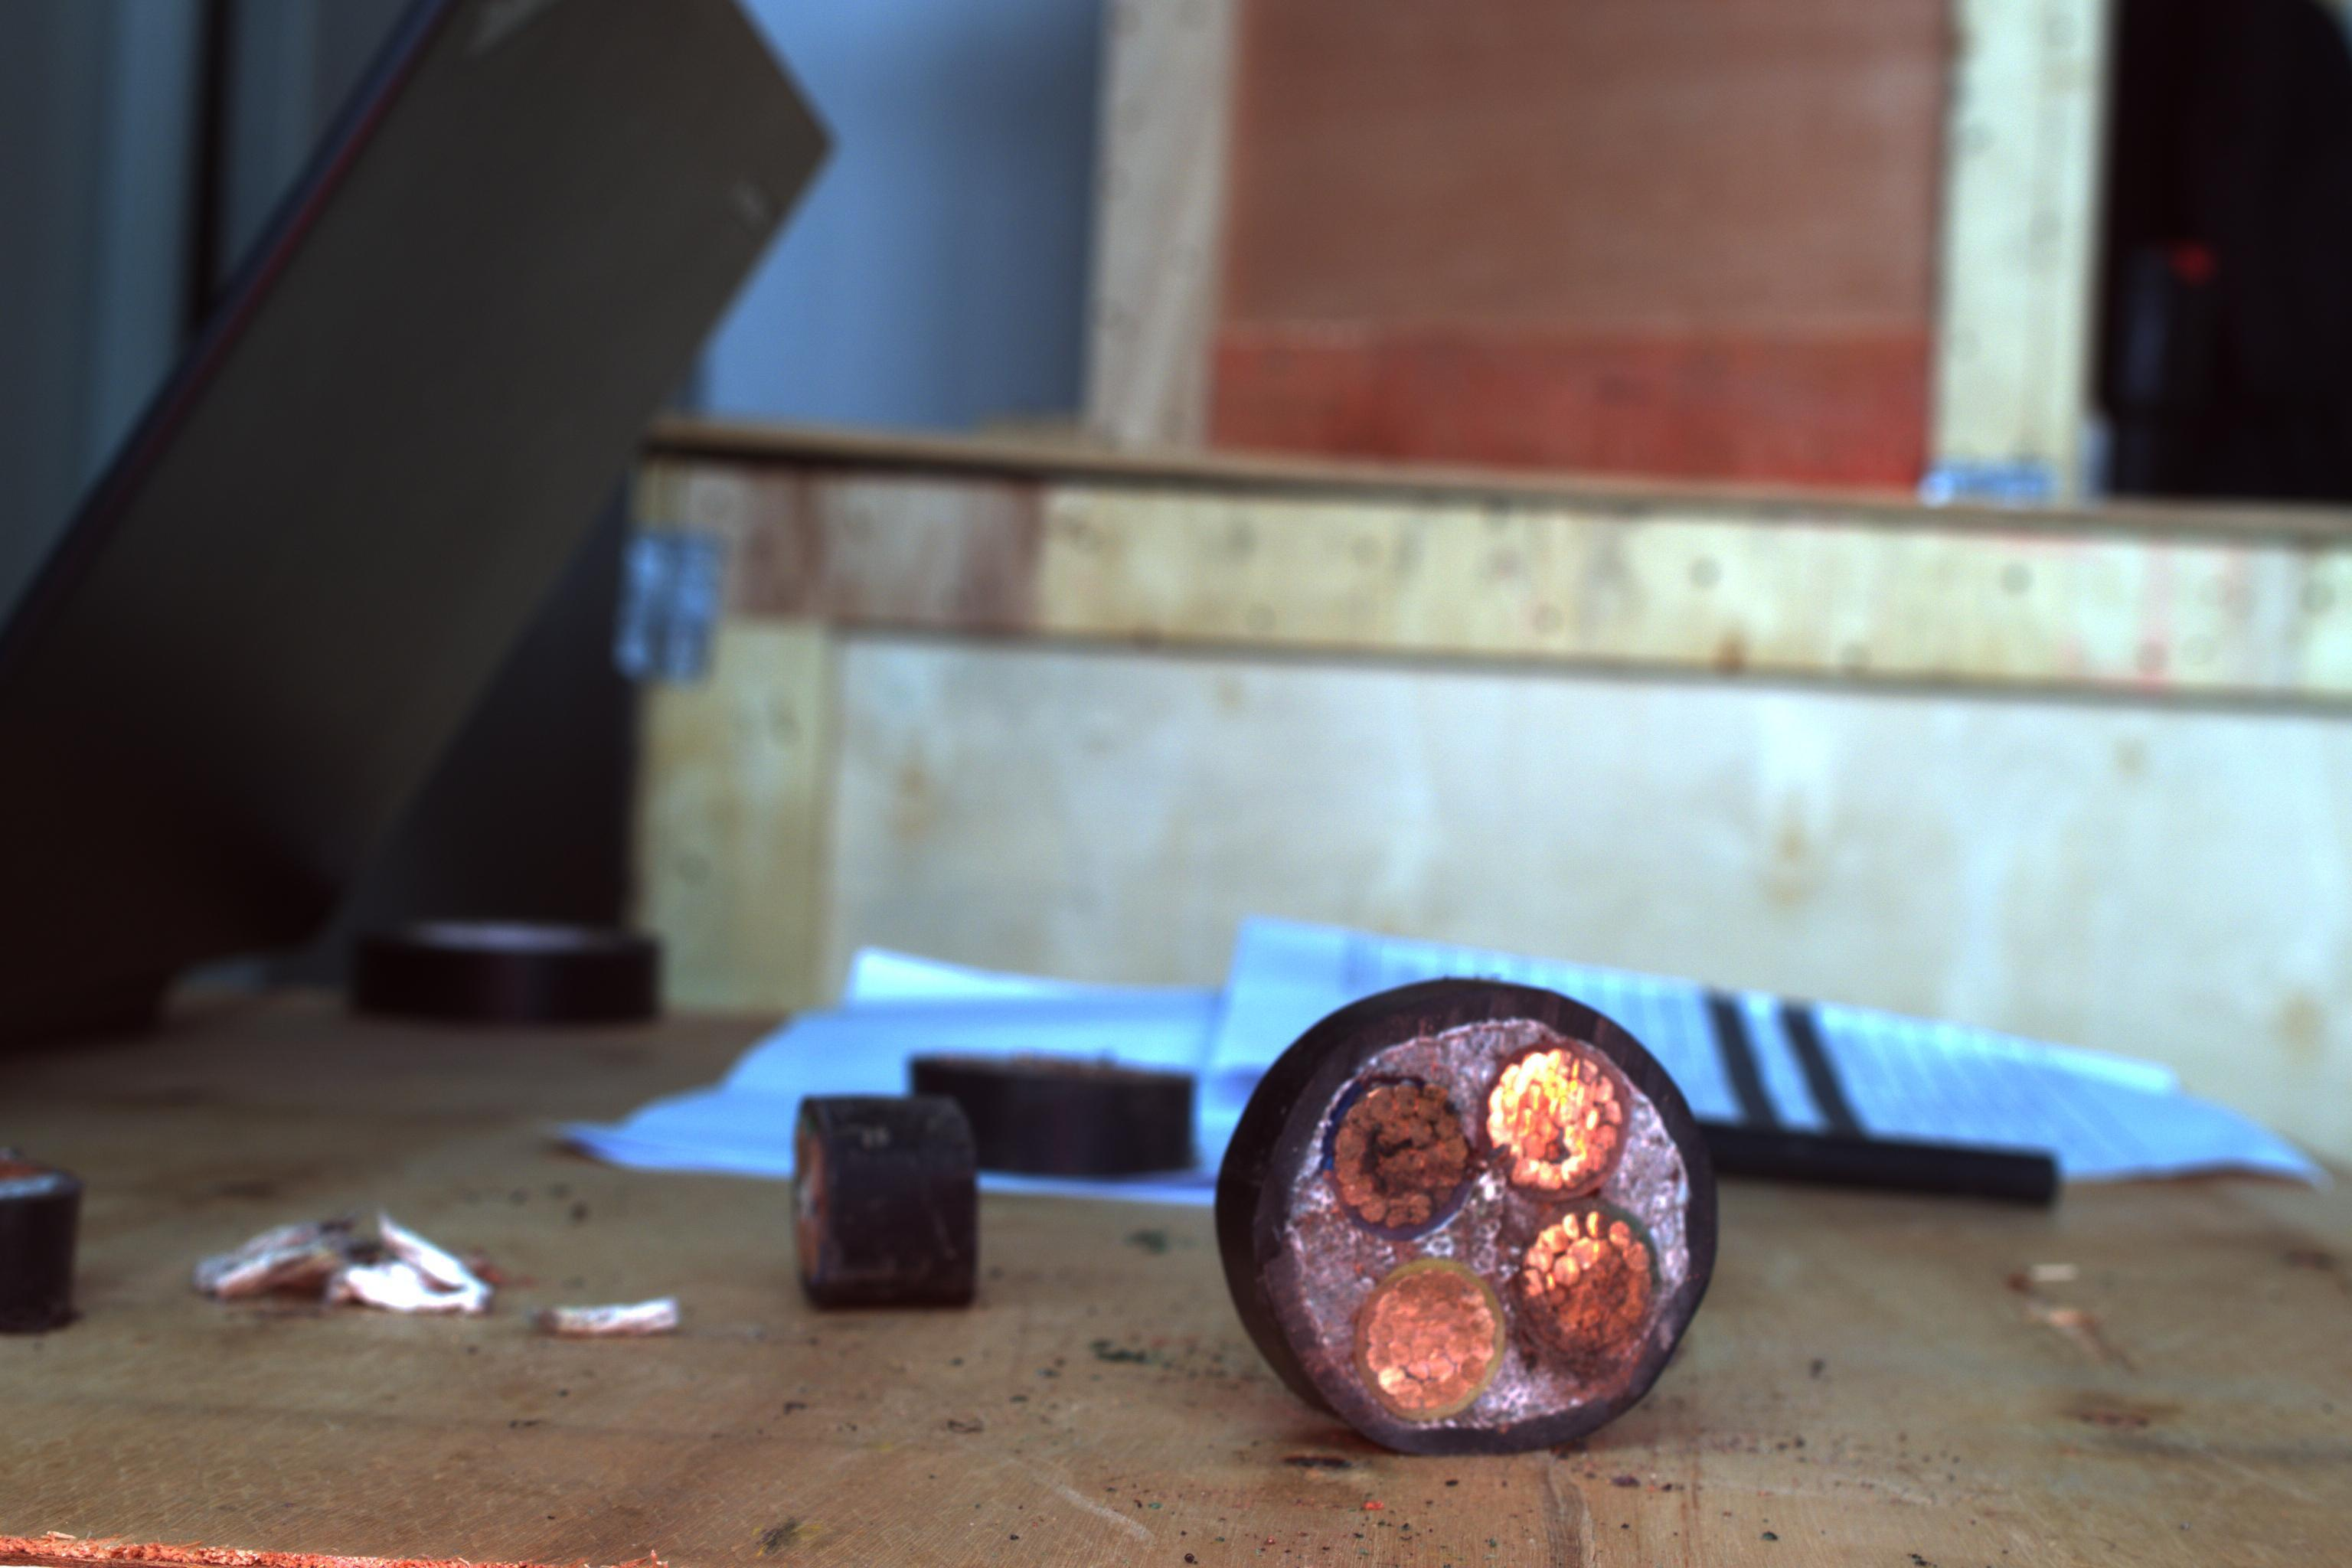YJV_0.6_1kV_4x120: (1263, 983, 1720, 1440)
